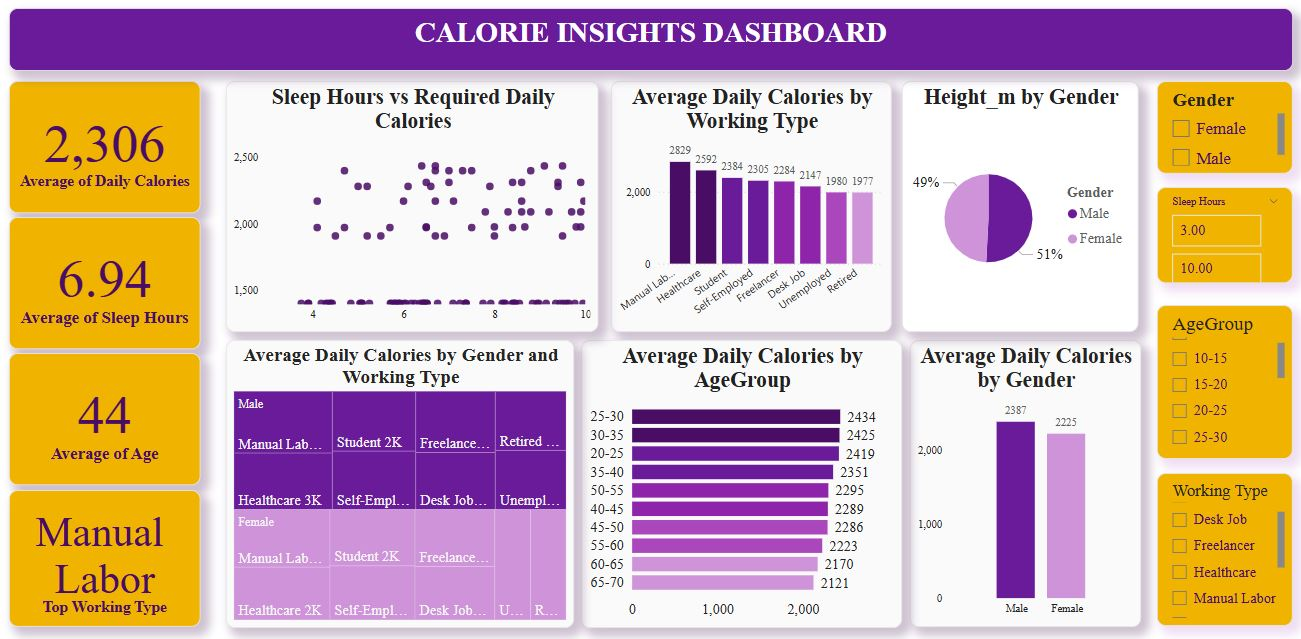

The page's visual inventory and layout, read from the dashboard file:
{"tool":"powerbi","page":{"name":"Page 1","canvas":[2000,800],"ordinal":0},"visuals":[{"type":"card","fields":{"Values":["Avg(balanc_diet.Required Daily Calories)"]},"box":[12.6,92.4,213,147],"z":0},{"type":"card","fields":{"Values":["Avg(balanc_diet.Sleep Hours)"]},"box":[12.6,243,212.8,146.8],"z":1},{"type":"card","fields":{"Values":["Avg(balanc_diet.Age)"]},"box":[12.6,394.6,212.8,146.8],"z":2},{"type":"columnChart","title":"Average Daily Calories by Gender","fields":{"Category":["balanc_diet.Gender"],"Y":["Avg(balanc_diet.Required Daily Calories)"]},"box":[1013.7,380,256.6,318.8],"z":3},{"type":"columnChart","title":"Average Daily Calories by Working Type","fields":{"Y":["Avg(balanc_diet.Required Daily Calories)"],"Category":["balanc_diet.Working Type"]},"box":[681.3,92.3,312,278.9],"z":4},{"type":"clusteredBarChart","title":"Average Daily Calories by AgeGroup","fields":{"Category":["balanc_diet.AgeGroup"],"Y":["Avg(balanc_diet.Required Daily Calories)"]},"box":[647.8,380.3,357,320],"z":5},{"type":"scatterChart","title":"Sleep Hours vs Required Daily Calories","fields":{"X":["balanc_diet.Sleep Hours"],"Y":["balanc_diet.Required Daily Calories"]},"box":[252.9,92.4,414.3,279.1],"z":6},{"type":"pieChart","title":" Height_m by Gender","fields":{"Y":["Sum(balanc_diet.Height_m)"],"Category":["balanc_diet.Gender"]},"box":[1005,92.3,263.4,278.9],"z":7},{"type":"treemap","title":"Average Daily Calories by Gender and Working Type","fields":{"Group":["balanc_diet.Gender"],"Details":["balanc_diet.Working Type"],"Values":["Avg(balanc_diet.Required Daily Calories)"]},"box":[252.9,380.3,387.1,320],"z":8},{"type":"card","fields":{"Values":["balanc_diet.Top Working Type"]},"box":[12.6,547.2,212.8,151.6],"z":9},{"type":"textbox","box":[12.2,11.1,1426.7,70],"z":10},{"type":"slicer","fields":{"Values":["balanc_diet.AgeGroup"]},"box":[1287.8,341.1,151.1,171.1],"z":11},{"type":"slicer","fields":{"Values":["balanc_diet.Working Type"]},"box":[1287.8,527.8,151.1,170],"z":12},{"type":"slicer","fields":{"Values":["balanc_diet.Gender"]},"box":[1287.8,92.2,151.1,103.3],"z":13},{"type":"slicer","fields":{"Values":["balanc_diet.Sleep Hours"]},"box":[1287.8,210,151.1,106.7],"z":14}]}

Visuals, with their boxes on the page's 2000x800 design canvas (x1, y1, x2, y2). These are canvas units, not pixel positions in the 1301x639 screenshot, which may show the page scaled, cropped or inside an application window:
card - Avg(balanc_diet.Required Daily Calories): [x1=13, y1=92, x2=226, y2=239]
card - Avg(balanc_diet.Sleep Hours): [x1=13, y1=243, x2=225, y2=390]
card - Avg(balanc_diet.Age): [x1=13, y1=395, x2=225, y2=541]
"Average Daily Calories by Gender" columnChart: [x1=1014, y1=380, x2=1270, y2=699]
"Average Daily Calories by Working Type" columnChart: [x1=681, y1=92, x2=993, y2=371]
"Average Daily Calories by AgeGroup" clusteredBarChart: [x1=648, y1=380, x2=1005, y2=700]
"Sleep Hours vs Required Daily Calories" scatterChart: [x1=253, y1=92, x2=667, y2=372]
" Height_m by Gender" pieChart: [x1=1005, y1=92, x2=1268, y2=371]
"Average Daily Calories by Gender and Working Type" treemap: [x1=253, y1=380, x2=640, y2=700]
card - balanc_diet.Top Working Type: [x1=13, y1=547, x2=225, y2=699]
textbox: [x1=12, y1=11, x2=1439, y2=81]
slicer - balanc_diet.AgeGroup: [x1=1288, y1=341, x2=1439, y2=512]
slicer - balanc_diet.Working Type: [x1=1288, y1=528, x2=1439, y2=698]
slicer - balanc_diet.Gender: [x1=1288, y1=92, x2=1439, y2=196]
slicer - balanc_diet.Sleep Hours: [x1=1288, y1=210, x2=1439, y2=317]
